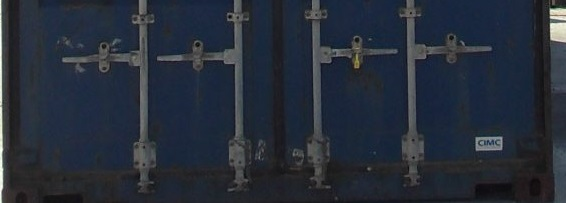container_door: (17, 4, 550, 201)
